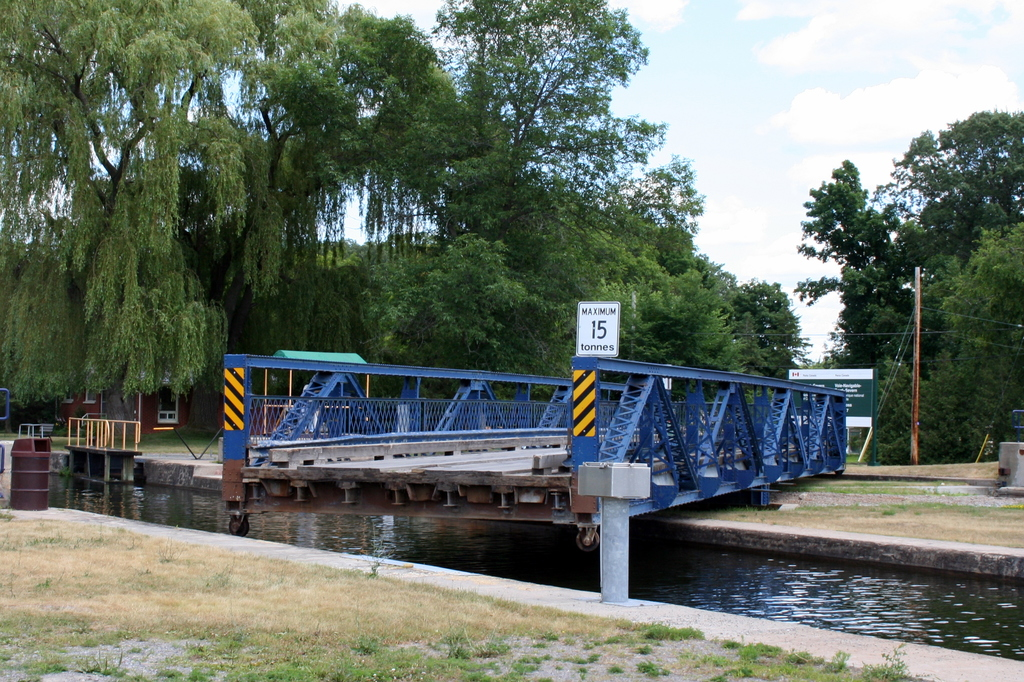Tree: (0, 0, 812, 412), (798, 106, 1023, 468)
